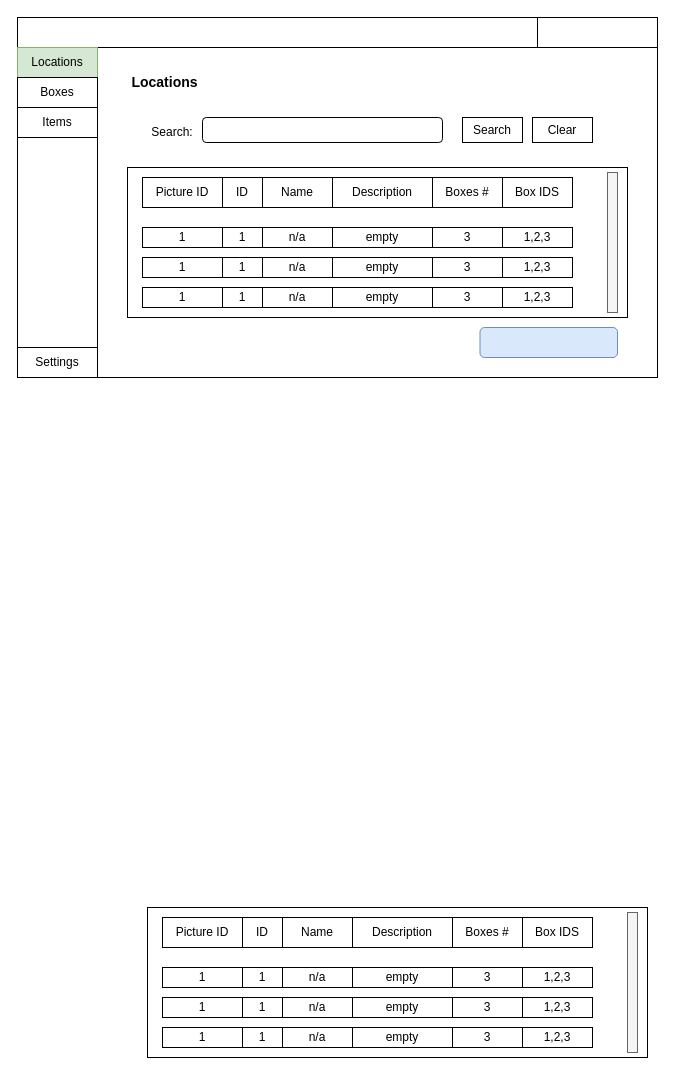
Some shapes in this 675 by 1075 pixel diagram are drawn without their labels. The box of each missing label's shape, as (x1, y1, x2, y2) in pixels:
+ Add Location: (479, 326, 618, 358)
Github Source: (536, 16, 658, 48)
Moving Helper App: (16, 16, 538, 48)
